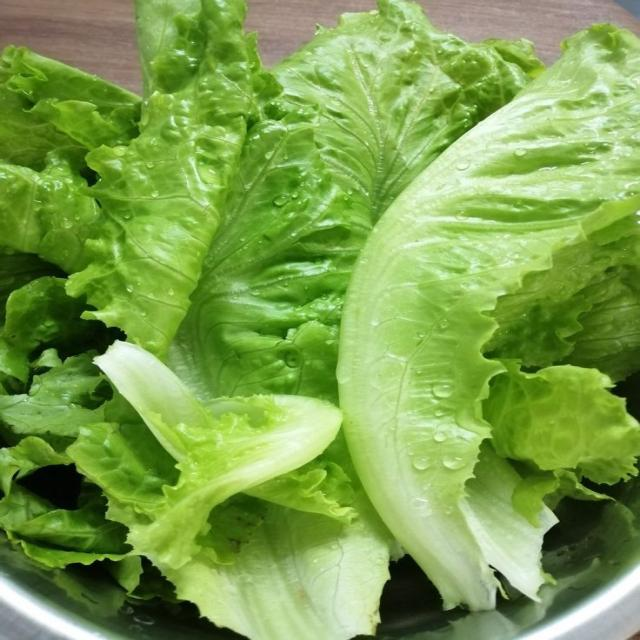lettuce: (0, 0, 639, 639), (339, 26, 639, 609)
